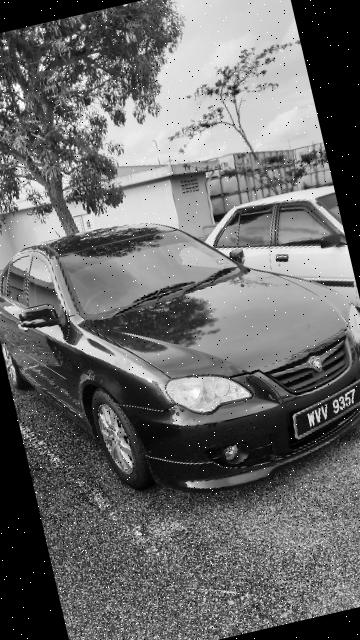License_Plate: (272, 364, 360, 445)
car: (1, 167, 360, 537)
